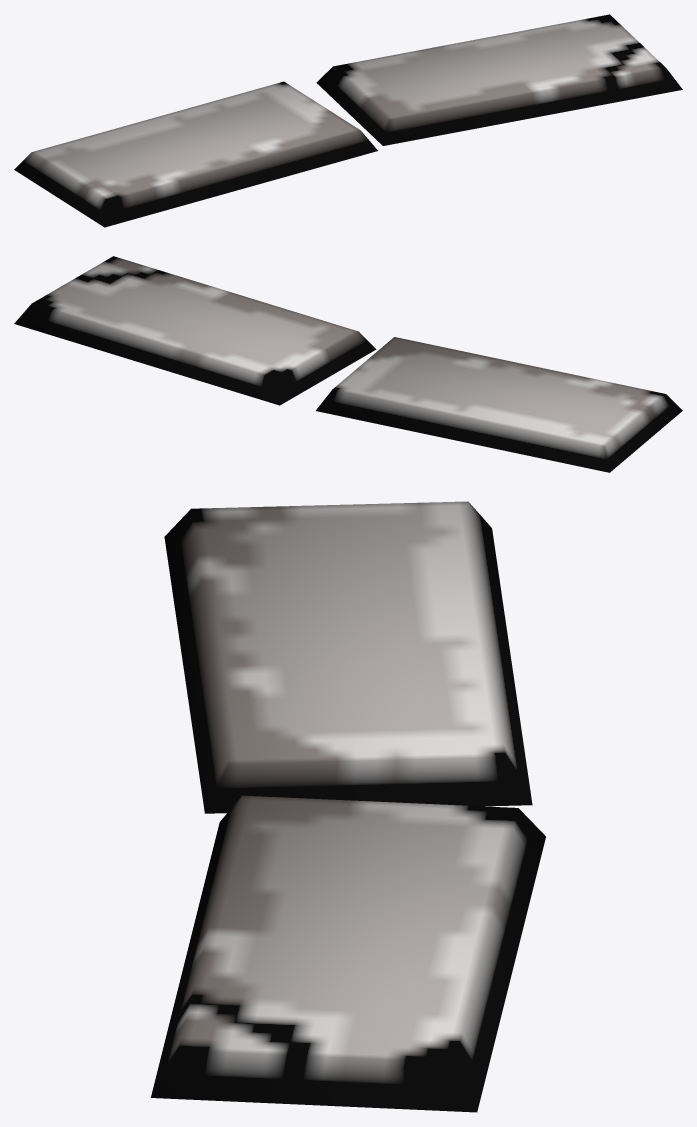
Rendered from deco_winter_groundTilesEdge.FBX.
3 renders of one model, top to bottom at view 1: azimuth 30°, elevation 25°; view 2: azimuth 150°, elevation 25°; view 3: azimuth 270°, elevation 25°, orthographic. The views are drawn at different scales.
Visible parts, largest first — view 1: deco_winter_groundTilesEdge; view 2: deco_winter_groundTilesEdge; view 3: deco_winter_groundTilesEdge.
Boxes of the visible parts, x1,y1,x2,y2 form: deco_winter_groundTilesEdge: [14, 14, 682, 227]; deco_winter_groundTilesEdge: [14, 256, 682, 472]; deco_winter_groundTilesEdge: [151, 501, 545, 1112].
Bounding box in the file's own units: 1.97 × 0.0599 × 0.5641.
1 material, 1 textured.
